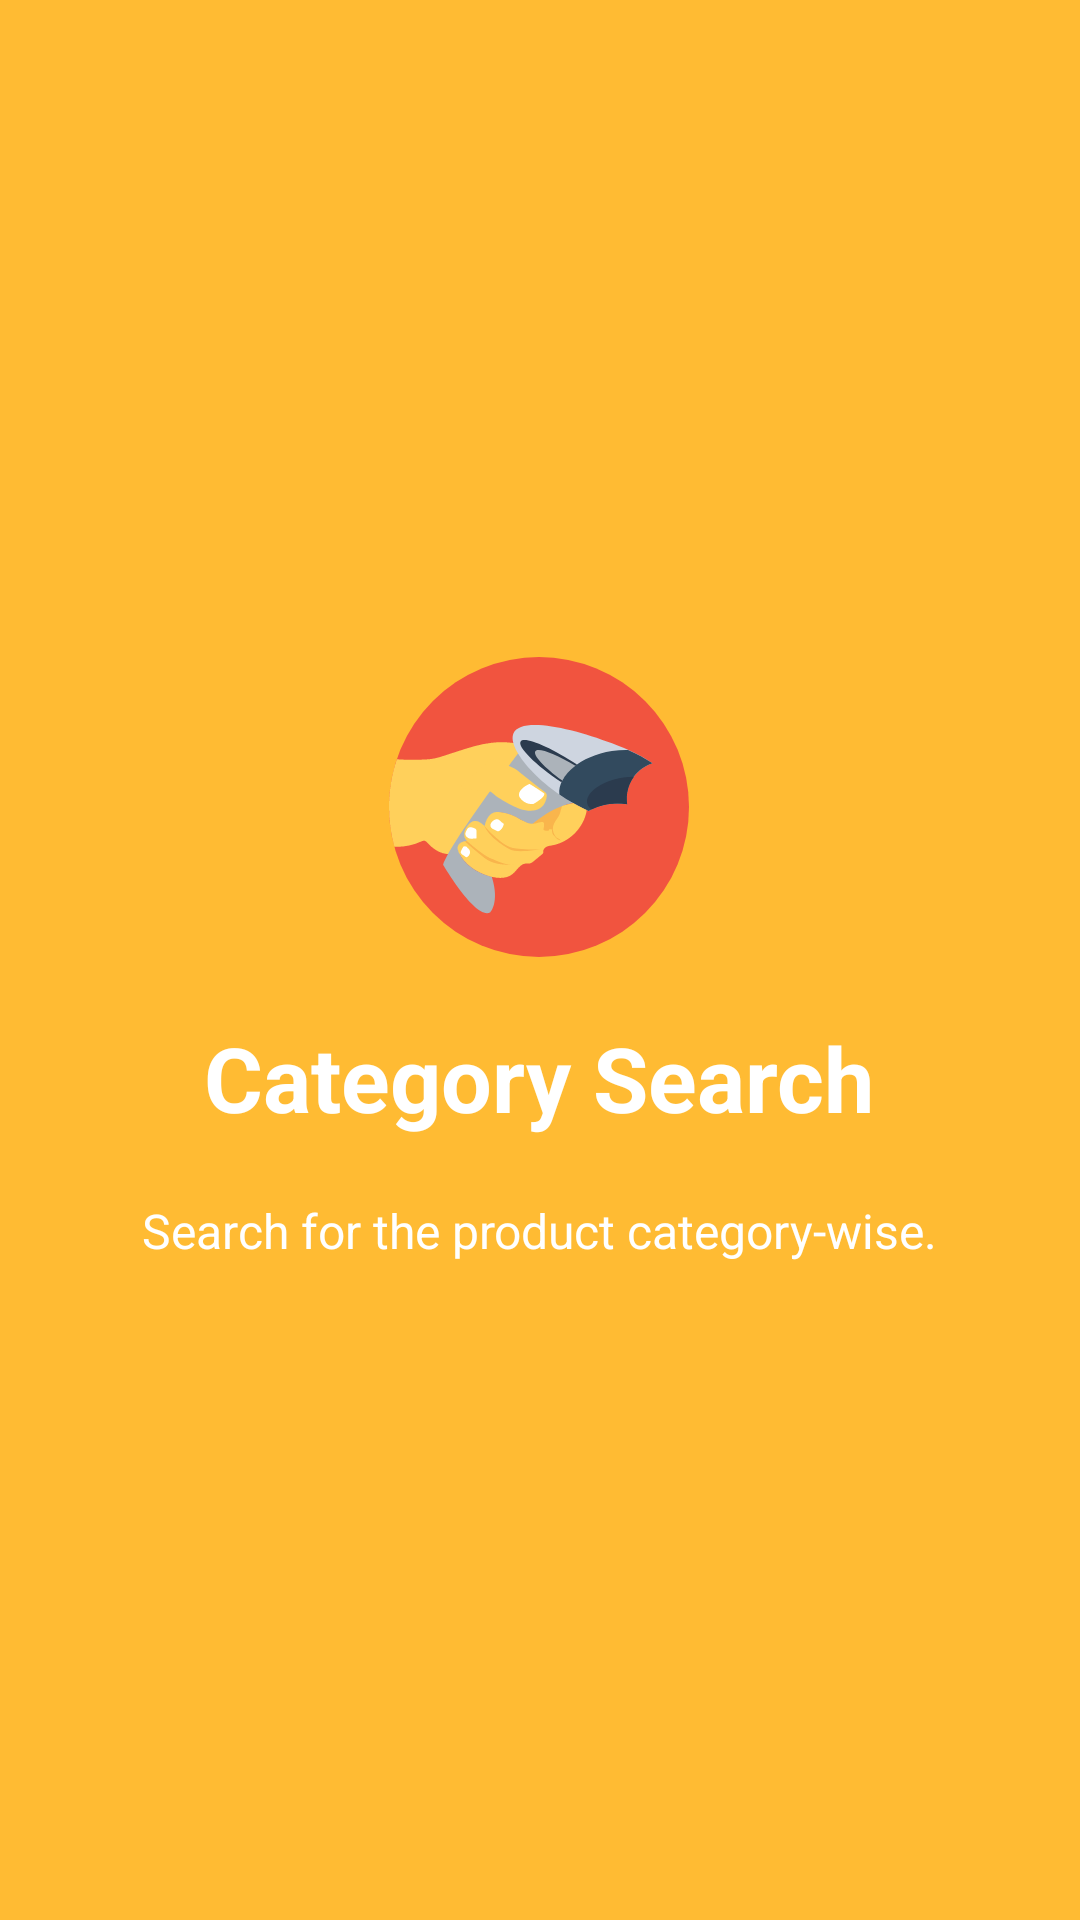

Locate icon controls on the screen. Image size 1080w x 1920h, boxes as (x1, y1, x2, y2).
barcode scanner: (389, 657, 689, 957)
